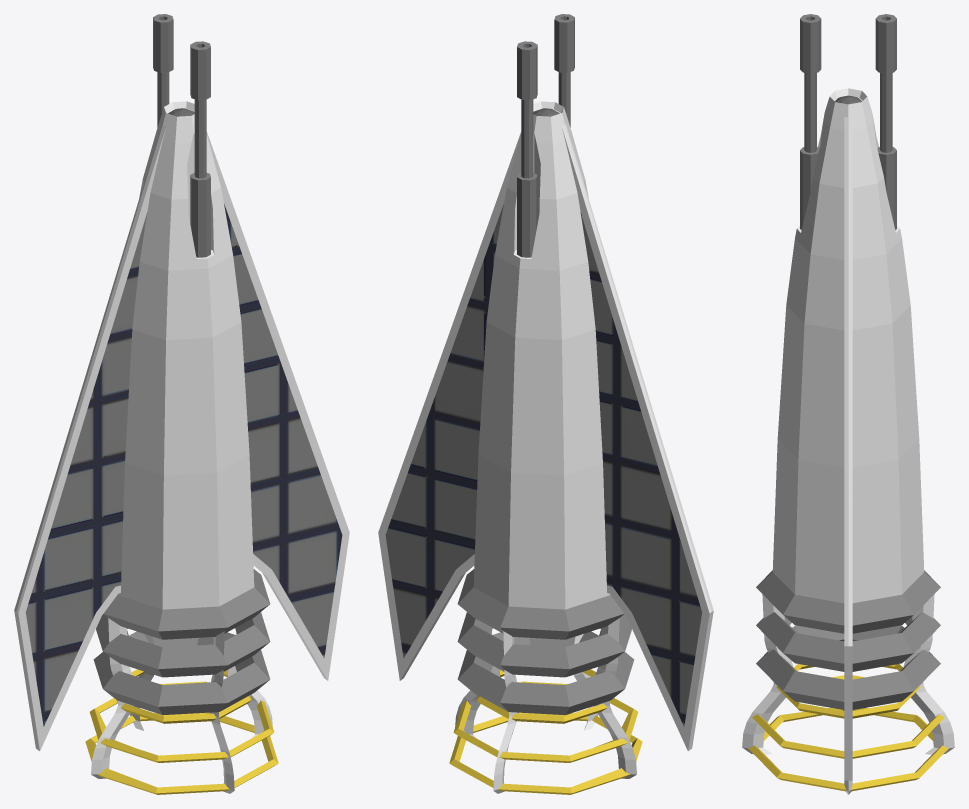
Rendered from Spaceship.glb.
The picture shows the model from 3 angles, left to right: view 1: azimuth 30°, elevation 25°; view 2: azimuth 150°, elevation 25°; view 3: azimuth 270°, elevation 25°; orthographic projection.
Visible parts, largest first — view 1: Body, RadiatorPanel, RadiatorBorder, Ring3, Ring2, Ring1, GunTop, Shields, Nozzle3, Nozzle2, GunBottom, Nozzle1; view 2: Body, RadiatorPanel, RadiatorBorder, Ring3, Ring2, Ring1, GunBottom, Shields, Nozzle3, Nozzle2, GunTop, Nozzle1; view 3: Body, Ring3, RadiatorBorder, Ring2, Ring1, Shields, GunBottom, GunTop, Nozzle3, Nozzle2, Nozzle1.
Part boxes in pixels (left/top/right/bottom): Body: left=117, top=101, right=254, bottom=609; RadiatorPanel: left=25, top=204, right=342, bottom=726; RadiatorBorder: left=14, top=124, right=349, bottom=750; Ring3: left=93, top=631, right=270, bottom=715; Ring2: left=96, top=612, right=270, bottom=677; Ring1: left=103, top=569, right=270, bottom=639; GunTop: left=190, top=41, right=210, bottom=257; Shields: left=91, top=618, right=272, bottom=793; Nozzle3: left=85, top=712, right=278, bottom=794; Nozzle2: left=89, top=681, right=274, bottom=762; GunBottom: left=153, top=14, right=173, bottom=127; Nozzle1: left=117, top=669, right=251, bottom=723; Body: left=473, top=101, right=610, bottom=609; RadiatorPanel: left=385, top=204, right=702, bottom=726; RadiatorBorder: left=378, top=124, right=713, bottom=750; Ring3: left=457, top=631, right=634, bottom=715; Ring2: left=457, top=612, right=631, bottom=677; Ring1: left=457, top=569, right=624, bottom=639; GunBottom: left=517, top=41, right=537, bottom=257; Shields: left=455, top=618, right=636, bottom=793; Nozzle3: left=449, top=712, right=642, bottom=794; Nozzle2: left=453, top=681, right=638, bottom=762; GunTop: left=554, top=14, right=574, bottom=127; Nozzle1: left=476, top=669, right=610, bottom=723; Body: left=772, top=88, right=924, bottom=603; Ring3: left=756, top=625, right=940, bottom=709; RadiatorBorder: left=844, top=117, right=852, bottom=780; Ring2: left=756, top=612, right=940, bottom=671; Ring1: left=756, top=570, right=940, bottom=633; Shields: left=742, top=594, right=954, bottom=794; GunBottom: left=875, top=14, right=896, bottom=229; GunTop: left=800, top=14, right=821, bottom=229; Nozzle3: left=748, top=708, right=948, bottom=791; Nozzle2: left=752, top=675, right=944, bottom=758; Nozzle1: left=776, top=664, right=920, bottom=718.
Size of the model in its own units: 4.6 by 9.64 by 2.53.
Materials: 5 (1 with a texture image).
